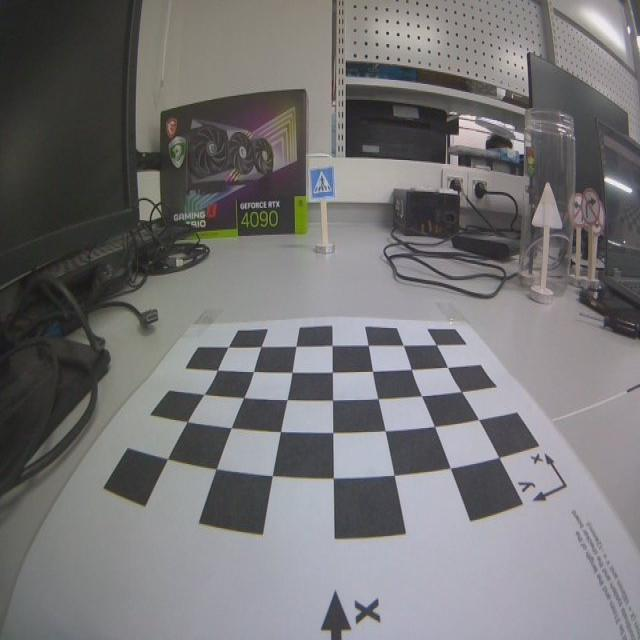Rambu Penyebrangan: (311, 167, 335, 199)
